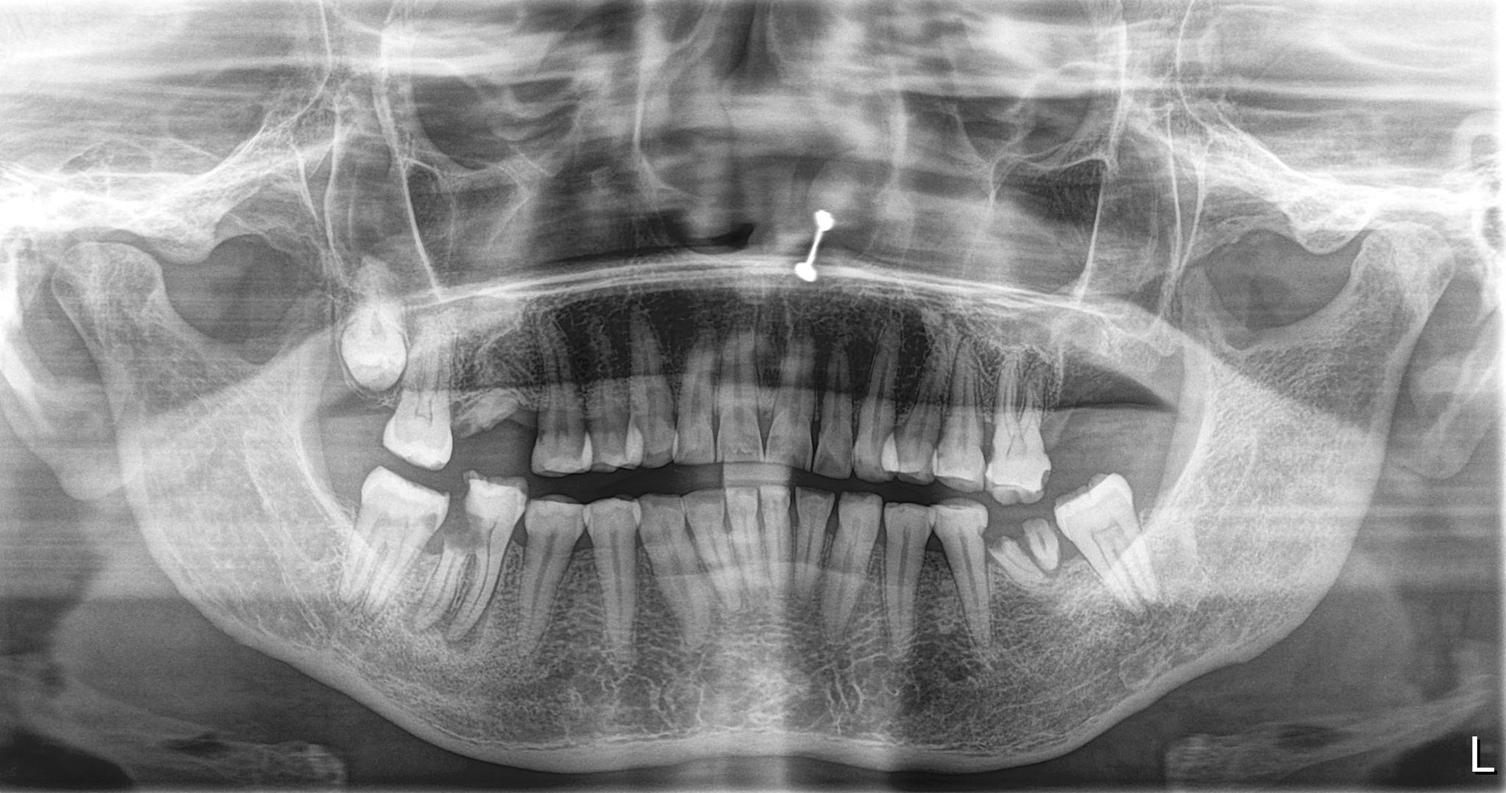Dental Caries: (976, 520, 1042, 558), (441, 502, 483, 552)
Impacted Third Molar: (340, 309, 408, 401)
Missing Tooth: (449, 338, 530, 468), (1110, 334, 1174, 470), (1033, 367, 1098, 479)
